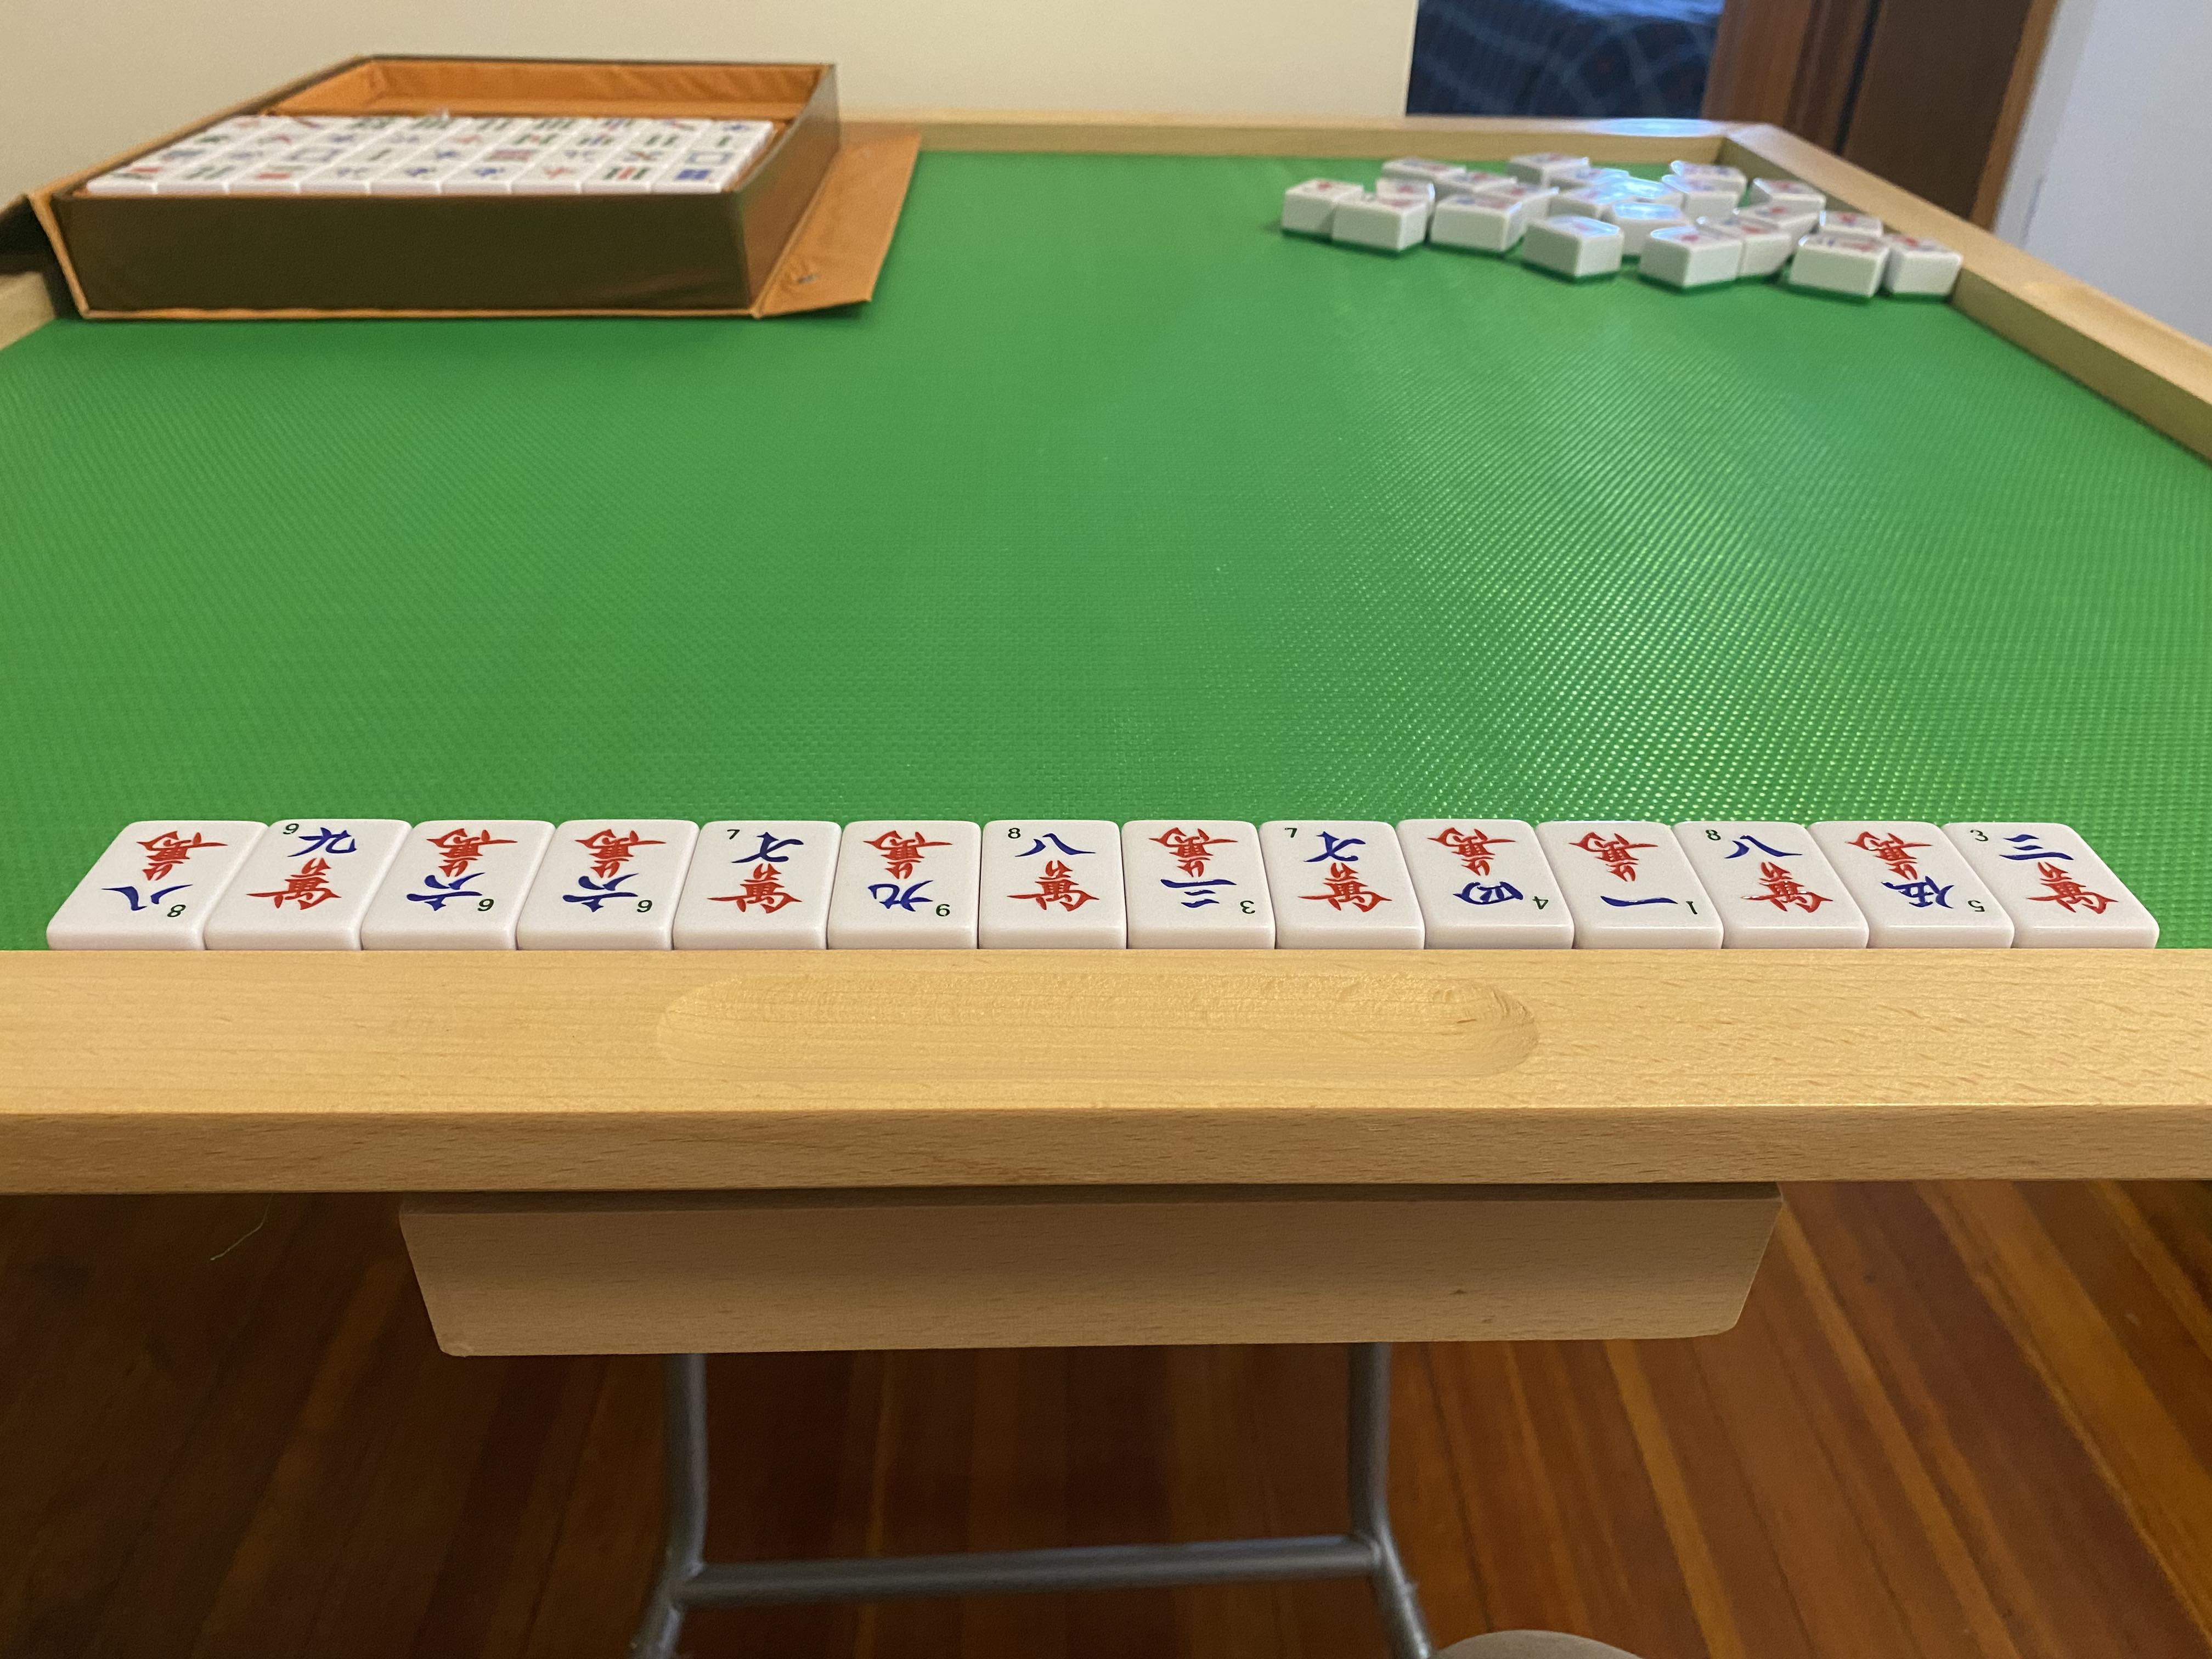character-eight: (105, 821, 228, 932), (1705, 826, 1832, 927), (998, 819, 1109, 929)
character-five: (1838, 823, 1993, 924)
character-four: (1418, 812, 1555, 931)
character-nine: (246, 814, 366, 932), (850, 817, 958, 924)
character-one: (1568, 835, 1698, 932)
character-seven: (1277, 817, 1404, 924), (702, 819, 808, 932)
character-six: (401, 817, 523, 936), (550, 816, 665, 932)
character-three: (1141, 824, 1263, 931), (1998, 824, 2120, 924)
